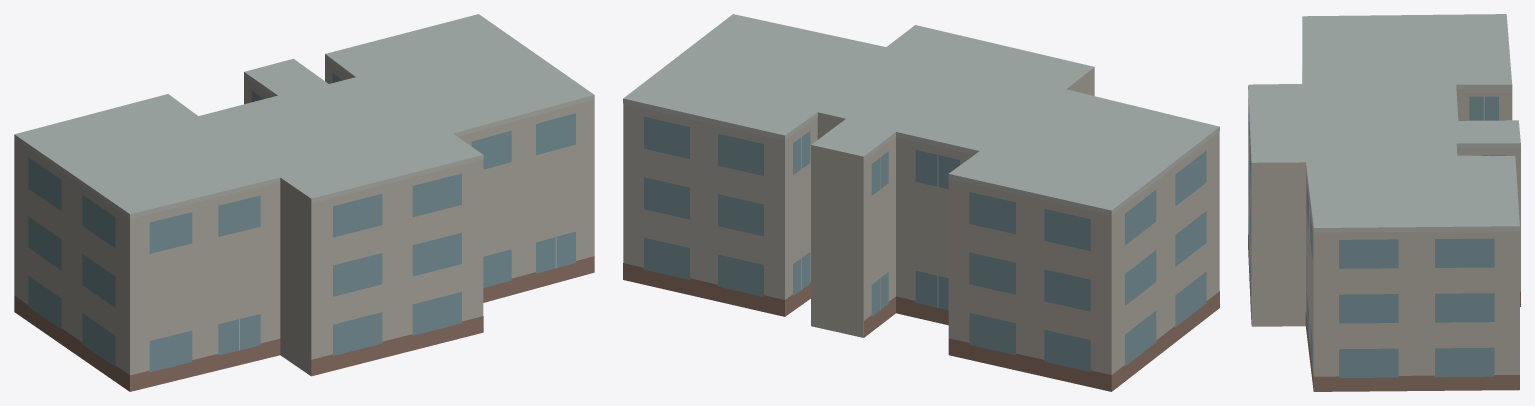
Rendered from survey-upis-32762322.glb.
3 renders of one model, left to right at view 1: azimuth 30°, elevation 25°; view 2: azimuth 150°, elevation 25°; view 3: azimuth 270°, elevation 25°, orthographic. The views are drawn at different scales.
Visible parts, largest first — view 1: survey-upis-32762322.tmp; view 2: survey-upis-32762322.tmp; view 3: survey-upis-32762322.tmp.
Part boxes in pixels (x1,y1,x2,y2): survey-upis-32762322.tmp: (14,14,594,391); survey-upis-32762322.tmp: (623,14,1219,391); survey-upis-32762322.tmp: (1248,14,1520,391).
Size of the model in its own units: 25.64 by 9.15 by 13.8.
